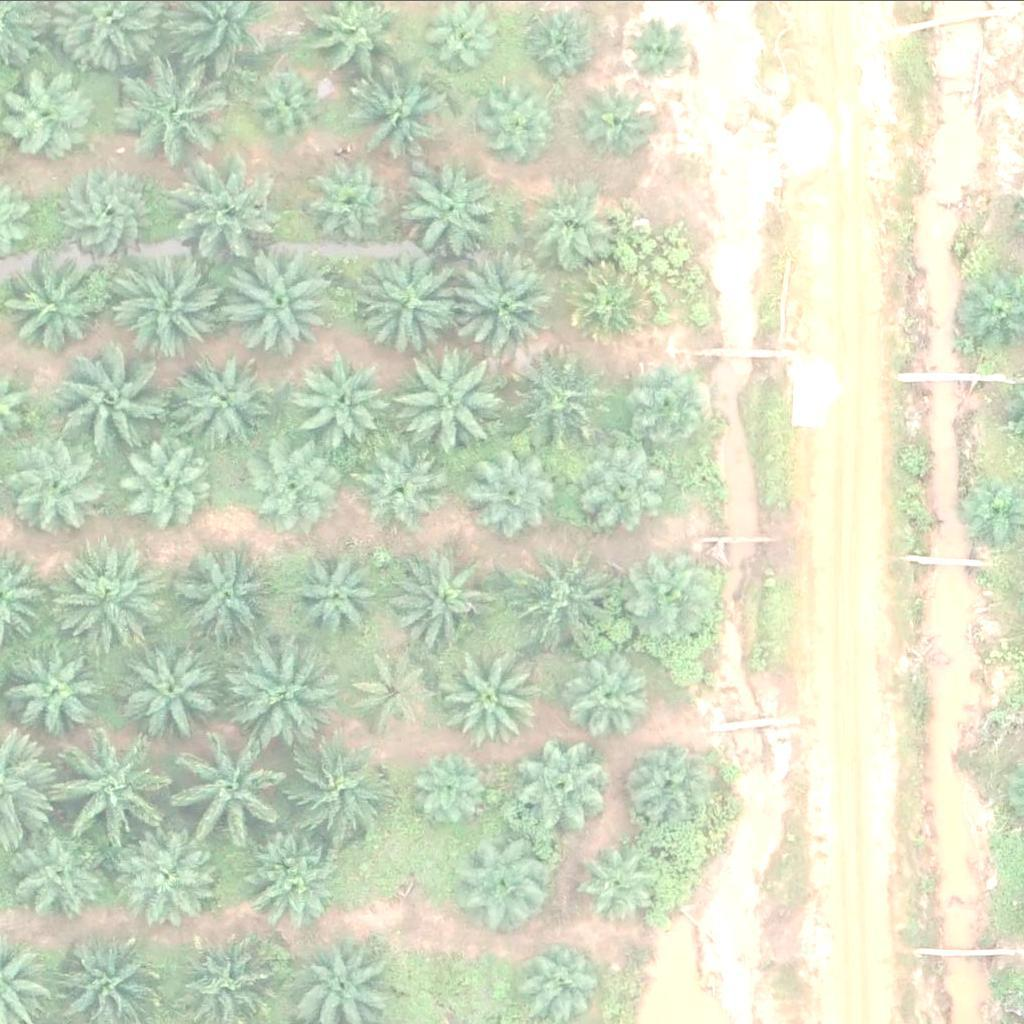Kelapa_Sawit: (220, 250, 334, 363), (447, 245, 560, 358), (351, 253, 464, 366), (59, 540, 172, 653), (116, 630, 229, 743), (116, 248, 230, 360), (393, 346, 507, 458), (161, 154, 274, 266), (55, 350, 168, 462), (516, 546, 629, 658), (232, 633, 345, 745), (67, 730, 180, 842), (185, 730, 298, 842), (283, 735, 396, 847), (356, 69, 457, 169), (128, 69, 229, 169), (404, 159, 505, 259), (4, 256, 105, 356), (172, 353, 273, 453), (509, 351, 610, 451), (9, 432, 110, 532), (402, 549, 503, 649), (9, 636, 110, 736), (442, 645, 543, 745), (459, 834, 560, 934), (119, 819, 220, 919), (238, 832, 339, 932), (62, 164, 162, 264), (629, 540, 729, 640), (509, 736, 609, 836), (12, 815, 112, 915), (177, 543, 278, 642), (567, 263, 655, 351), (245, 60, 333, 148), (305, 353, 393, 441), (473, 451, 561, 539), (617, 737, 705, 825), (580, 441, 669, 528), (348, 643, 437, 730), (314, 156, 402, 243), (534, 179, 622, 266), (626, 363, 714, 450), (351, 451, 439, 538), (239, 442, 327, 529), (124, 439, 212, 526), (290, 548, 378, 635), (411, 744, 499, 831), (570, 646, 658, 733), (571, 838, 659, 925), (431, 2, 507, 77), (486, 82, 561, 157), (586, 84, 661, 159), (627, 23, 690, 86)
